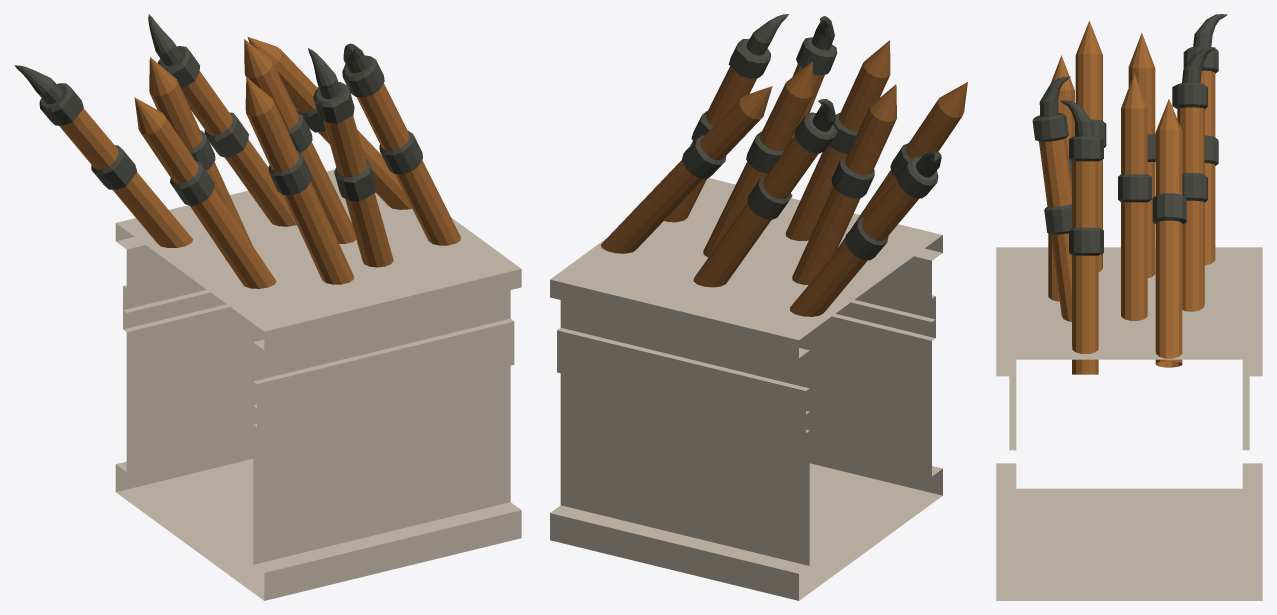
Rendered from plataforma lanças tortas meio.fbx.
3 views of the same model, side by side, from view 1: azimuth 30°, elevation 25°; view 2: azimuth 150°, elevation 25°; view 3: azimuth 270°, elevation 25° (orthographic). The views are drawn at different scales.
Parts seen in each view (by area): view 1: Cube.025, Cube.028; view 2: Cube.025, Cube.028; view 3: Cube.025, Cube.028.
Part boxes in pixels (x1,y1,x2,y2): Cube.025: [115, 169, 521, 600]; Cube.028: [14, 14, 460, 288]; Cube.025: [550, 178, 942, 600]; Cube.028: [601, 14, 967, 316]; Cube.025: [996, 247, 1262, 600]; Cube.028: [1032, 14, 1227, 374].
Size of the model in its own units: 73.46 by 93.16 by 50.
